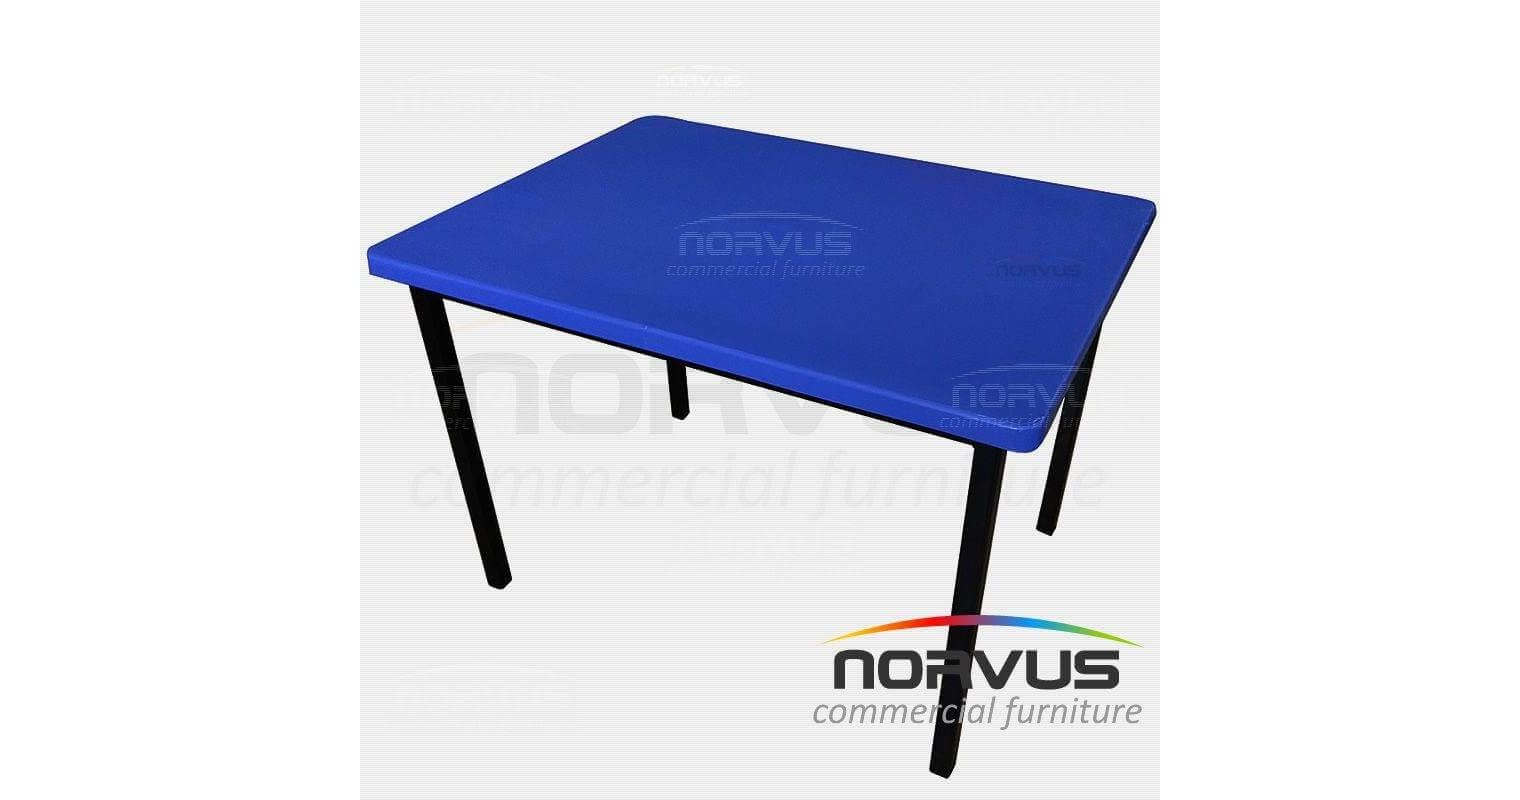m01: (367, 114, 1159, 608)
